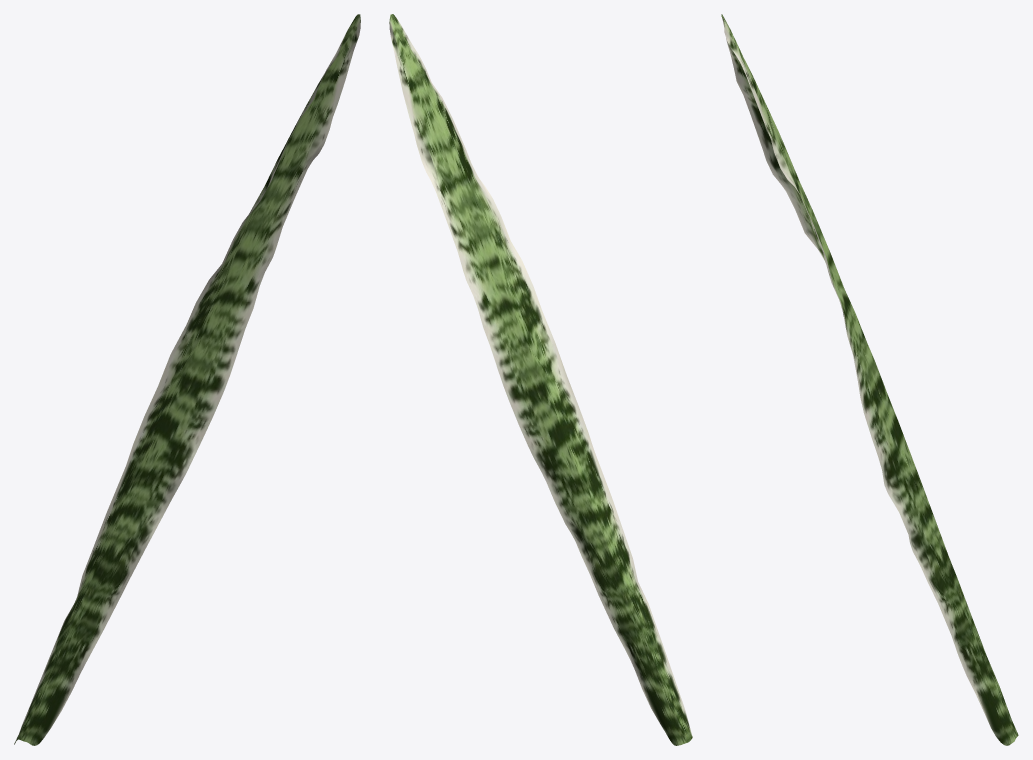
3 views of the same model, side by side, from view 1: azimuth 30°, elevation 25°; view 2: azimuth 210°, elevation 25°; view 3: azimuth 270°, elevation 25° (orthographic). The views are drawn at different scales.
Visible parts, largest first — view 1: sansevieriaplant.013; view 2: sansevieriaplant.013; view 3: sansevieriaplant.013.
Part boxes in pixels (x1=…): sansevieriaplant.013: x1=14, y1=14, x2=360, y2=745; sansevieriaplant.013: x1=389, y1=14, x2=692, y2=745; sansevieriaplant.013: x1=721, y1=14, x2=1018, y2=745.
Size of the model in its own units: 0.3758 by 1.32 by 0.4283.
1 material, 1 textured.
